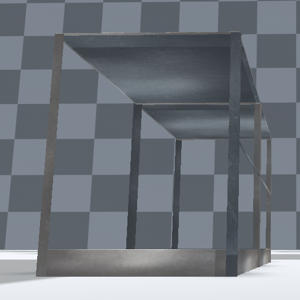Rack: (34, 29, 272, 279)
